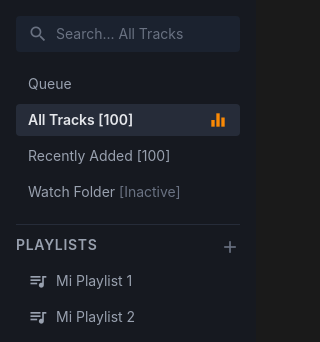
Sidebar › Edición de playlist existente › debería mostrar input de edición al hacer doble click en playlist
The image size is (320, 342).
Double-click the text "Mi Playlist 1": {"x": 94, "y": 280} [56,272,132,289]
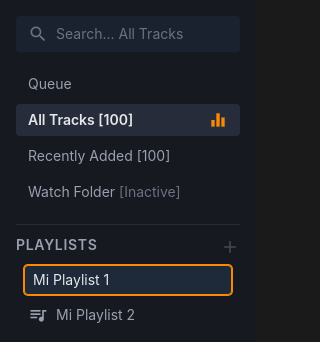
Expected: the field showing "Mi Playlist 1" is shown, [24,265,232,295]
